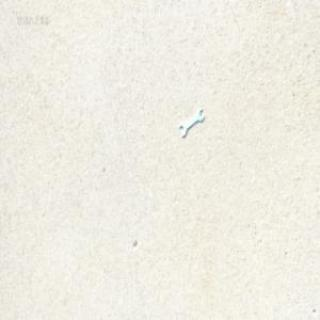Wrenchtrack_idkeyframe: (174, 103, 212, 141)
